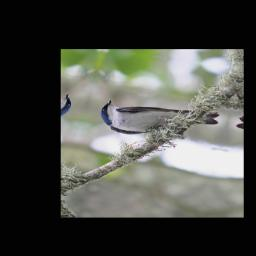Swallow: (94, 94, 223, 147)
